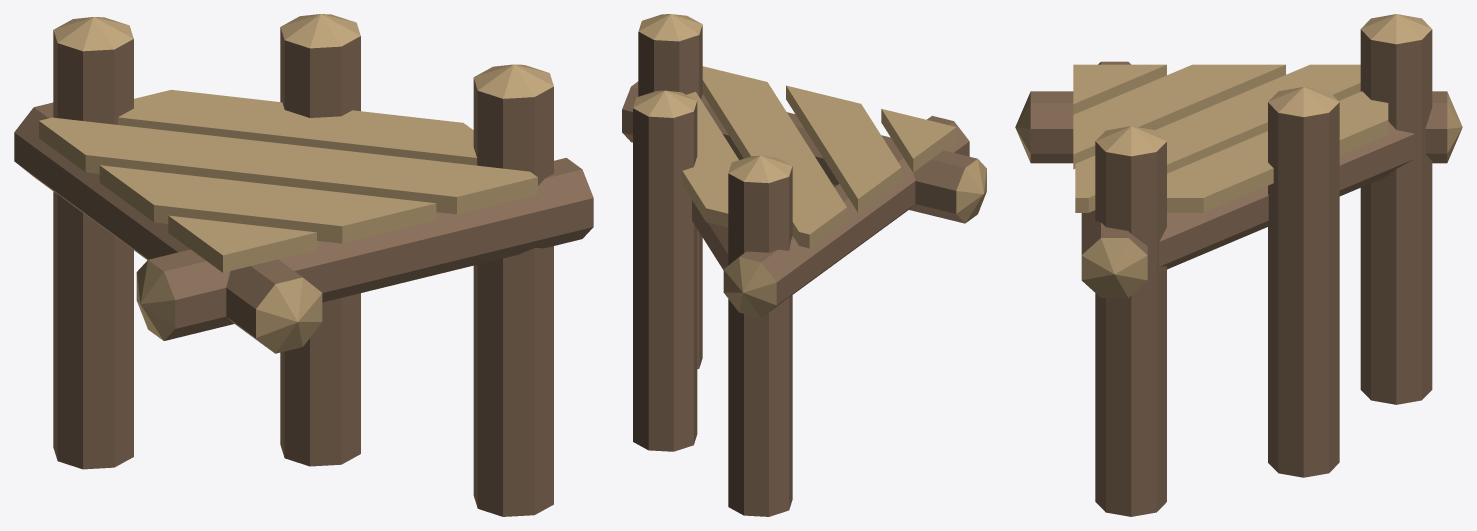
Rendered from Beach_Prop_Docks_Corner.obj.
The picture shows the model from 3 angles, left to right: view 1: azimuth 30°, elevation 25°; view 2: azimuth 150°, elevation 25°; view 3: azimuth 270°, elevation 25°; orthographic projection. The views are drawn at different scales.
Visible parts, largest first — view 1: object9, object5, object10, object2, object6, object4, object1, object8, object7; view 2: object6, object5, object2, object4, object1, object10, object9, object8, object7, object3; view 3: object6, object5, object9, object2, object1, object3, object8, object4, object10, object7.
Part boxes in pixels (x1,y1,x2,y2): object9: [473, 64, 553, 516]; object5: [53, 17, 133, 469]; object10: [136, 158, 593, 340]; object2: [39, 117, 537, 214]; object6: [280, 14, 360, 466]; object4: [14, 102, 322, 353]; object1: [99, 165, 436, 243]; object8: [118, 89, 476, 165]; object7: [168, 215, 316, 272]; object6: [633, 90, 697, 451]; object5: [728, 155, 792, 516]; object2: [702, 66, 846, 248]; object4: [723, 116, 969, 317]; object1: [786, 85, 901, 212]; object10: [622, 81, 986, 223]; object9: [638, 14, 702, 369]; object8: [682, 91, 738, 227]; object7: [881, 109, 956, 172]; object3: [692, 200, 728, 269]; object6: [1268, 87, 1339, 477]; object5: [1360, 14, 1432, 404]; object9: [1095, 126, 1166, 516]; object2: [1075, 64, 1360, 212]; object1: [1073, 64, 1285, 169]; object3: [1159, 121, 1415, 269]; object8: [1167, 91, 1388, 212]; object4: [1015, 91, 1462, 163]; object10: [1081, 61, 1147, 297]; object7: [1073, 64, 1166, 114].
Bounding box in the file's own units: 1.35 × 1.25 × 1.35.
